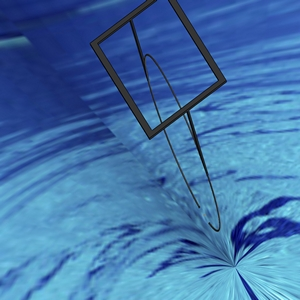circle: (85, 0, 228, 233)
